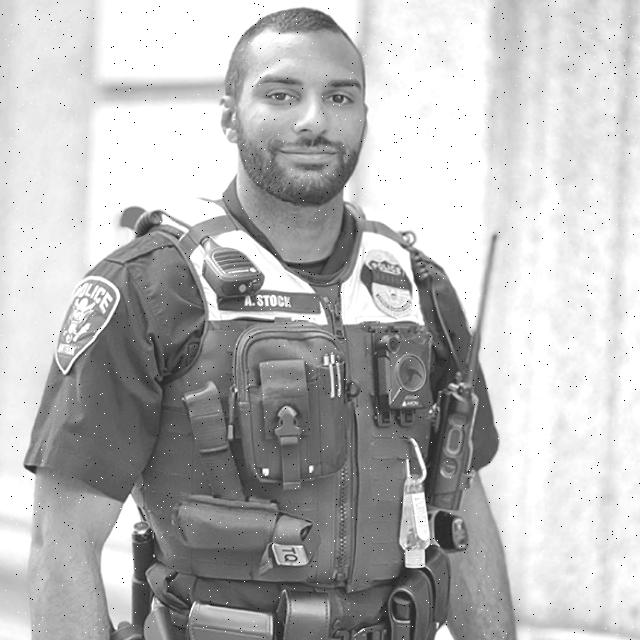police: (23, 2, 538, 640)
